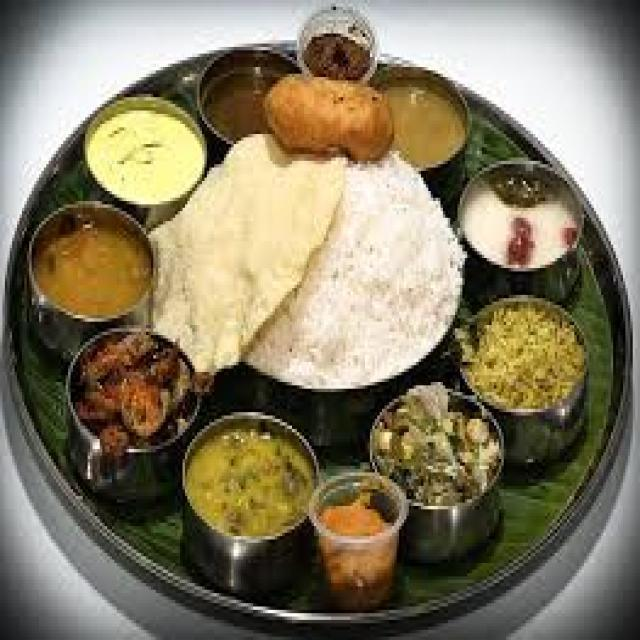dal: (185, 414, 310, 549), (380, 375, 497, 514), (461, 293, 589, 420), (87, 95, 208, 204), (311, 470, 405, 548)
papad: (275, 159, 468, 384)
pickle: (296, 16, 380, 84)
sambar-rasam: (456, 157, 589, 287)
sweet: (455, 165, 587, 283)
veg-fry: (58, 323, 198, 457)
